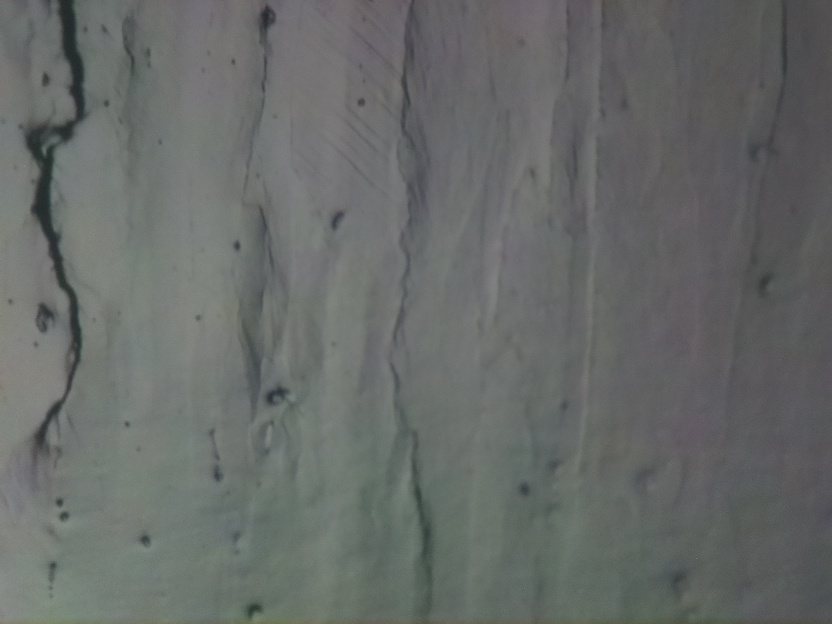crack: (35, 0, 85, 445)
